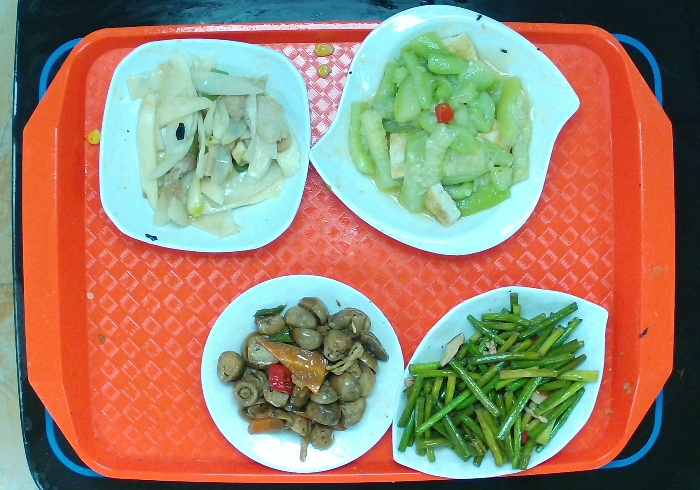RJxy-Da_Du_Pan: (389, 275, 614, 487)
RJxy-Shuang_Jiao_Pan: (297, 2, 587, 259)
RJxy-Si_Fang_Wan: (92, 30, 319, 258)
RJxy-Xiao_Yuan_Die: (192, 269, 411, 481)
